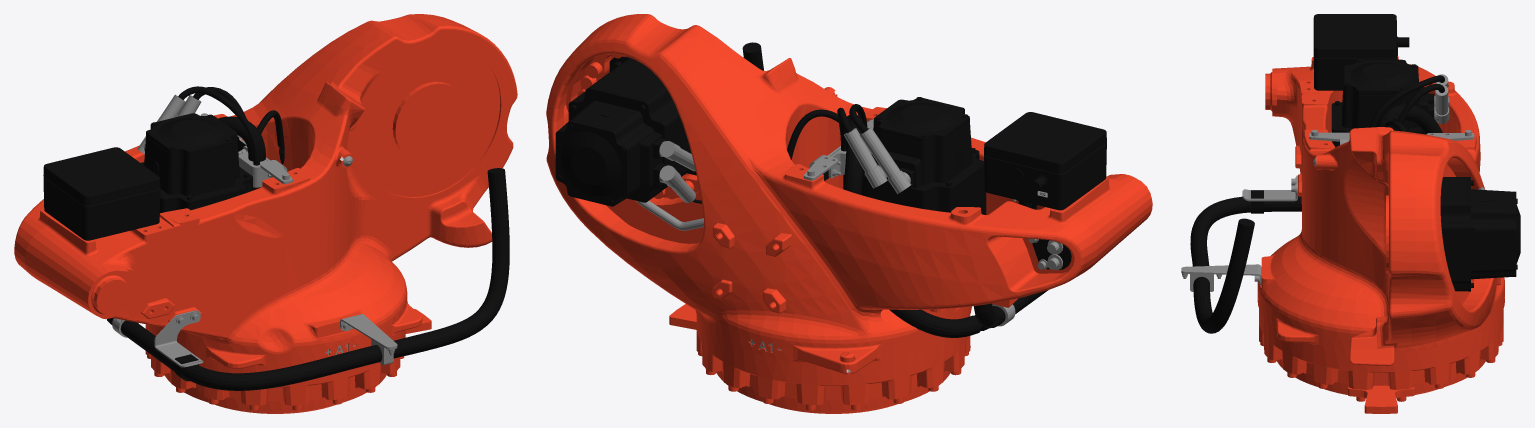
The picture shows the model from 3 angles, left to right: view 1: azimuth 30°, elevation 25°; view 2: azimuth 150°, elevation 25°; view 3: azimuth 270°, elevation 25°; orthographic projection. The views are drawn at different scales.
Visible parts, largest first — view 1: link_1; view 2: link_1; view 3: link_1.
Boxes of the visible parts, <box> form: link_1: <box>14,14,517,413</box>; link_1: <box>546,14,1152,413</box>; link_1: <box>1181,14,1520,413</box>.
Bounding box in the file's own units: 1.04 × 0.6515 × 0.6023.
